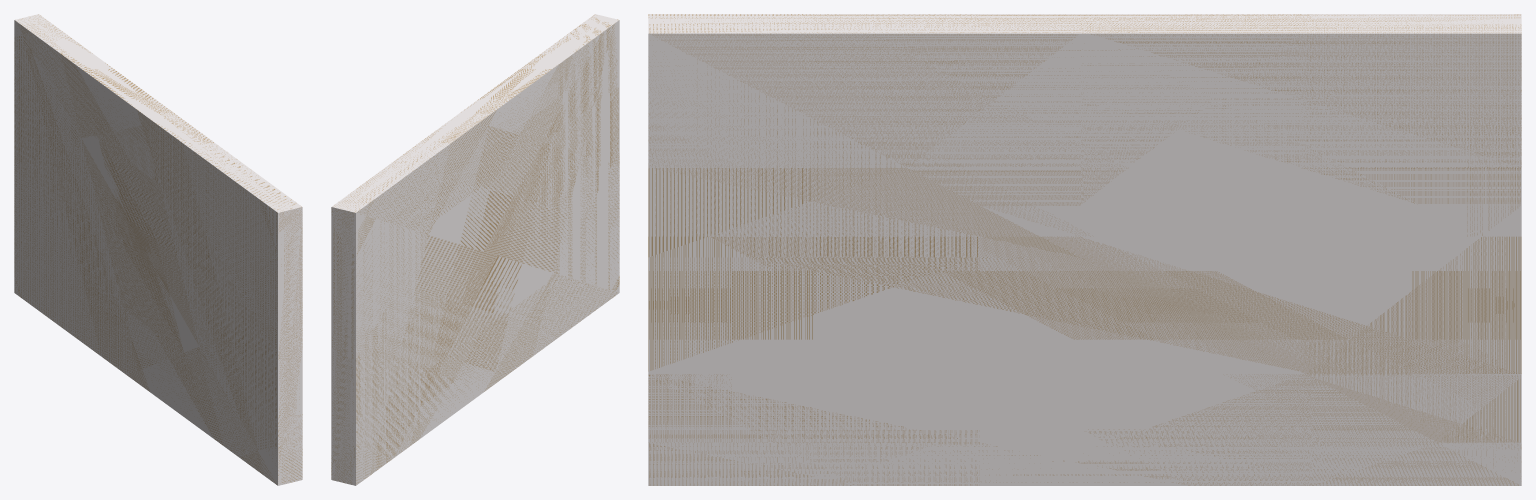
The model's file is original-25.obj.
The picture shows the model from 3 angles, left to right: view 1: azimuth 30°, elevation 25°; view 2: azimuth 150°, elevation 25°; view 3: azimuth 270°, elevation 25°; orthographic projection. The views are drawn at different scales.
Visible parts, largest first — view 1: DB1L1/DB1L/mesh16/mesh16-geometry#mesh16-geometry; view 2: DB1L1/DB1L/mesh16/mesh16-geometry#mesh16-geometry; view 3: DB1L1/DB1L/mesh16/mesh16-geometry#mesh16-geometry.
Boxes of the visible parts, bbox=[...] form: DB1L1/DB1L/mesh16/mesh16-geometry#mesh16-geometry: bbox=[14, 14, 302, 485]; DB1L1/DB1L/mesh16/mesh16-geometry#mesh16-geometry: bbox=[331, 14, 619, 485]; DB1L1/DB1L/mesh16/mesh16-geometry#mesh16-geometry: bbox=[648, 14, 1521, 485].
Size of the model in its own units: 0.0311 by 0.3313 by 0.5797.
